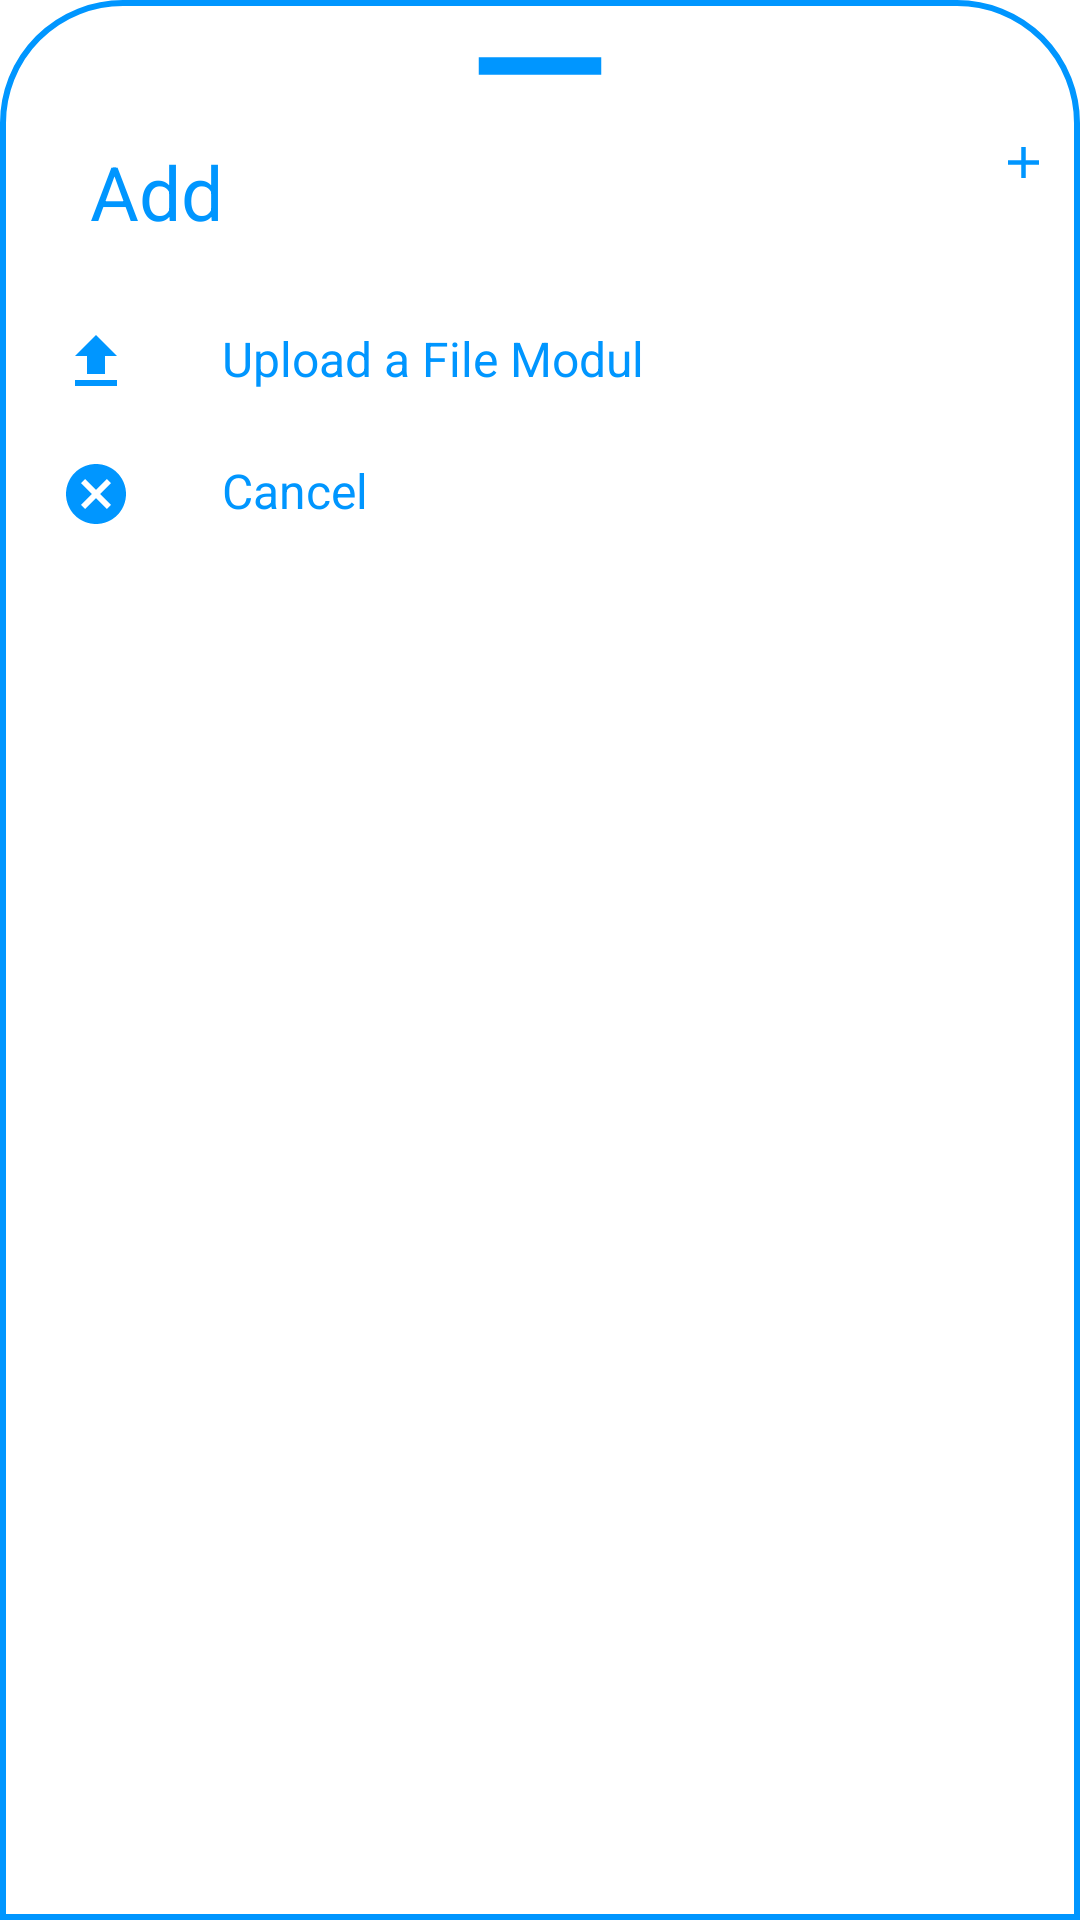

Icon click points for this 1080 x 1920 phone screenshot, format (x=x, y=y):
custom add: (x=1023, y=162)
custom file upload: (x=96, y=360)
